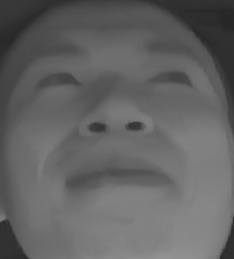eye: (147, 59, 197, 91), (31, 67, 85, 92)
mouth: (58, 153, 173, 200)
